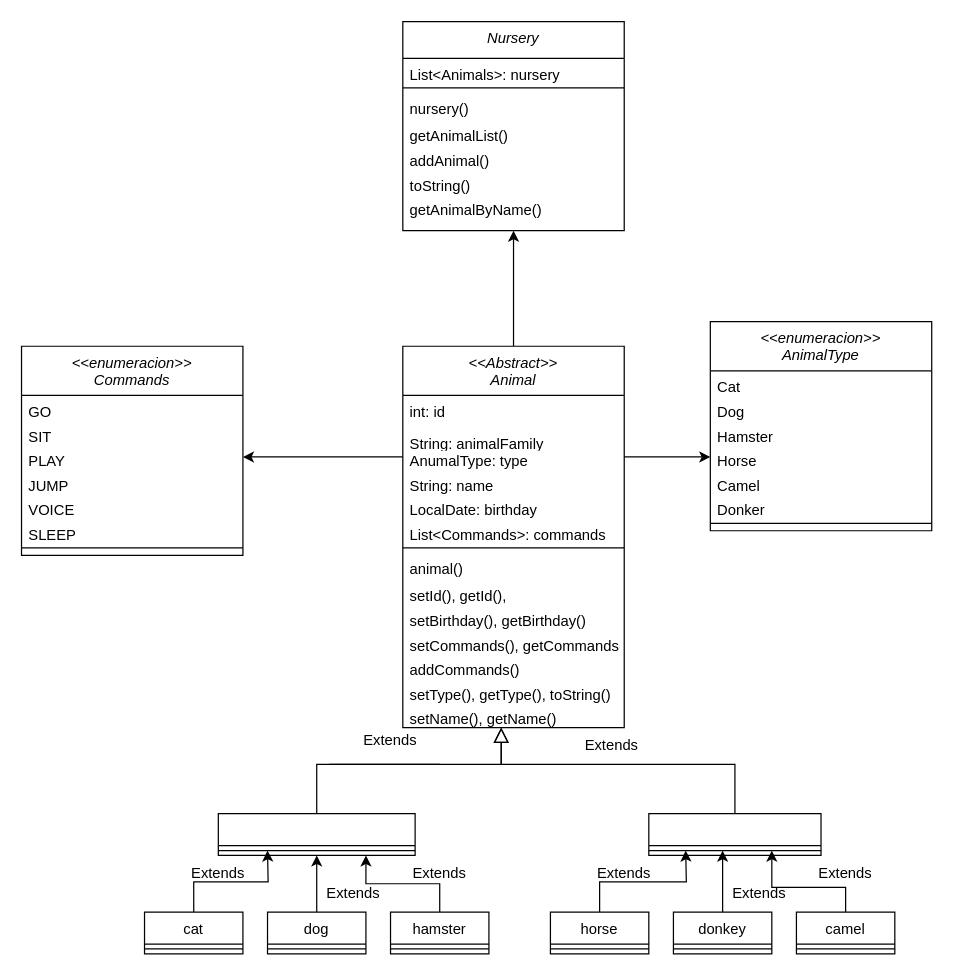
This 953x975 diagram has some shape labels left out. The shapes that lost their labels are listed below. From the top down, each one's centre as x and y in pixels, then its label:
pixel 316 833: domesticAnimal
pixel 734 833: baggageAnimal
